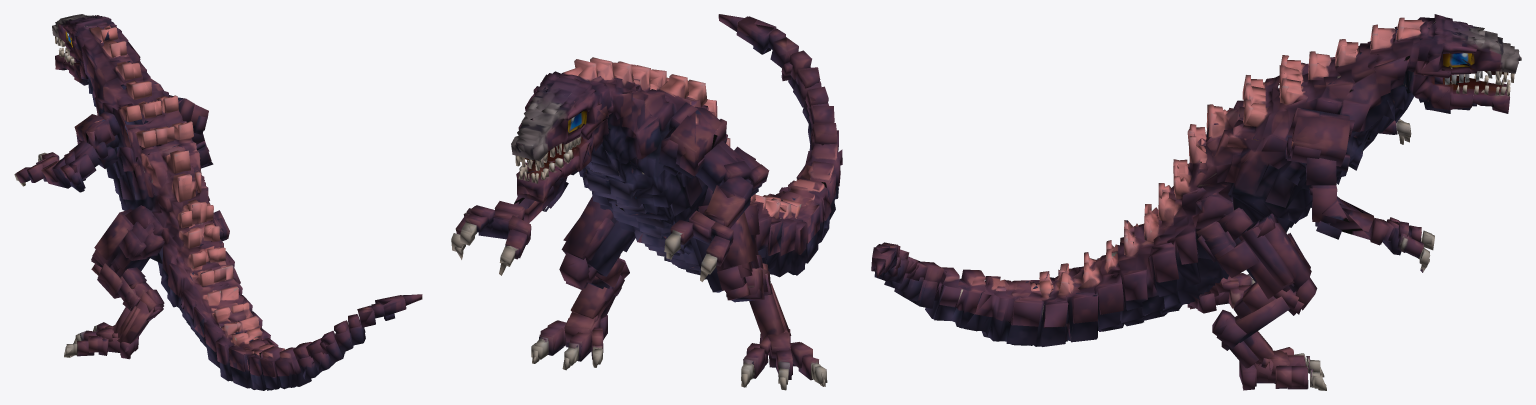
Rendered from lacerta_fratris.obj.
3 views of the same model, side by side, from view 1: azimuth 30°, elevation 25°; view 2: azimuth 150°, elevation 25°; view 3: azimuth 270°, elevation 25° (orthographic). The views are drawn at different scales.
Parts seen in each view (by area): view 1: lacerta_fratris; view 2: lacerta_fratris; view 3: lacerta_fratris.
Boxes of the visible parts, x1,y1,x2,y2 form: lacerta_fratris: (14, 14, 422, 390); lacerta_fratris: (451, 14, 842, 390); lacerta_fratris: (871, 14, 1521, 390).
Size of the model in its own units: 7.13 by 8 by 14.43.
